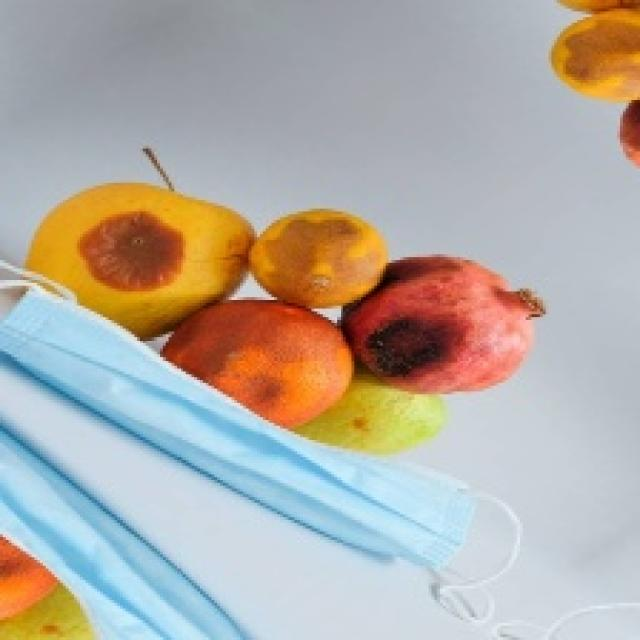rotten_apple: (34, 186, 242, 310)
